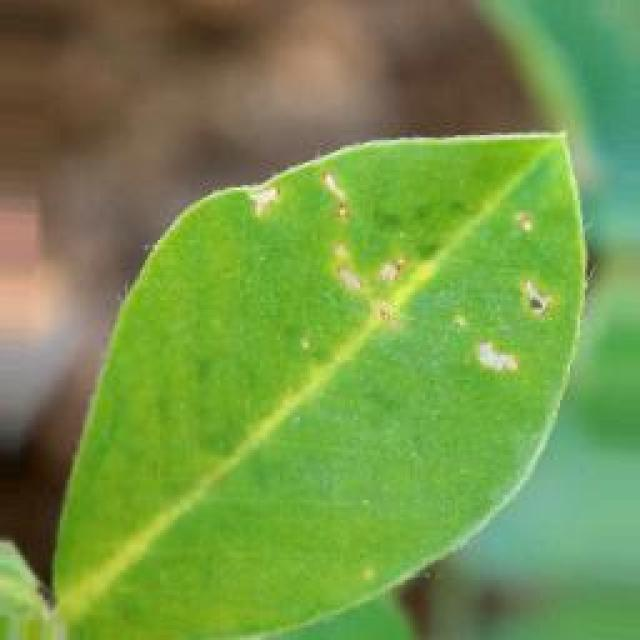Yellow_and_black_sigatoka: (54, 123, 586, 640)
